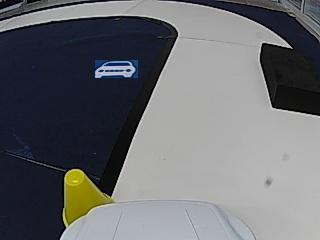block: (260, 42, 318, 114)
cone: (64, 170, 115, 204)
